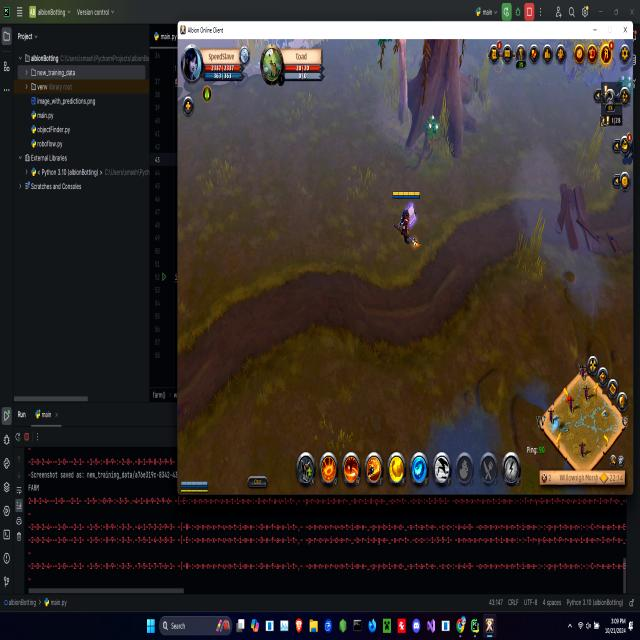hide: (610, 71, 634, 106), (422, 112, 444, 150)
red: (389, 185, 428, 258), (180, 469, 214, 492)
wisp caged: (383, 32, 414, 120)
